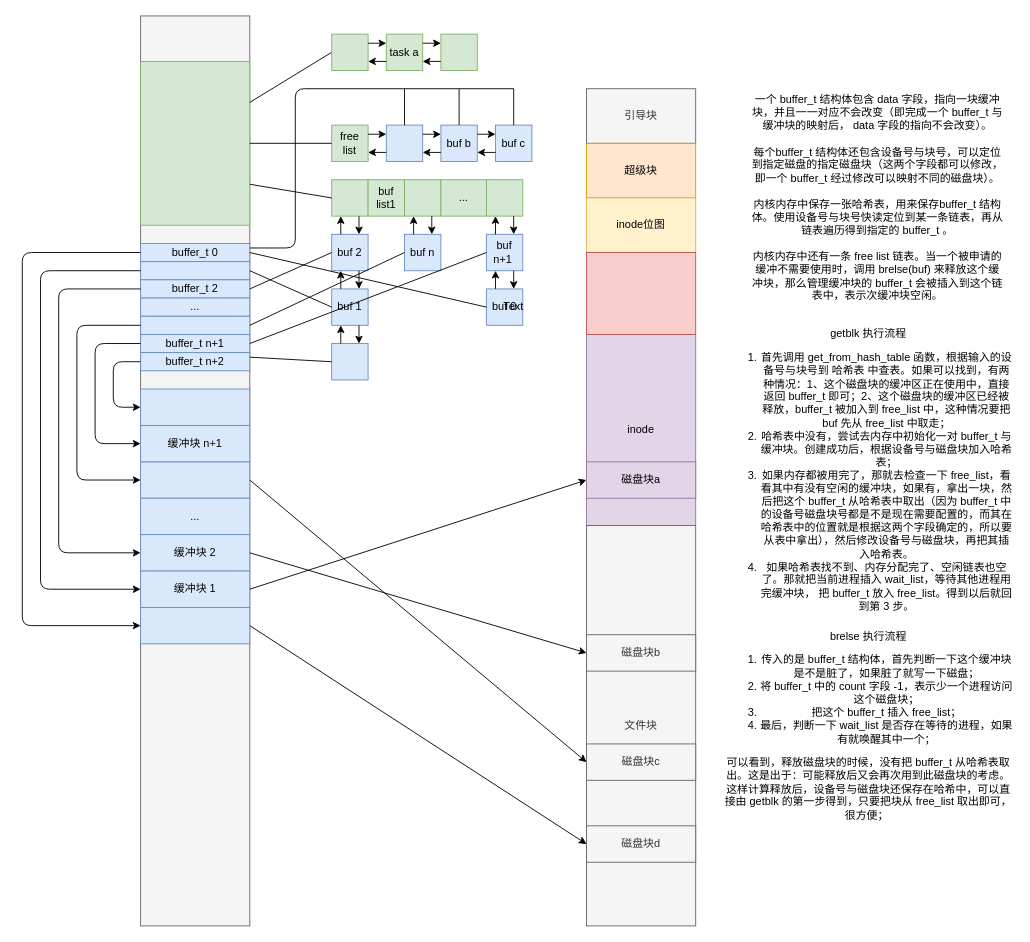
Image size: 1030x942. Some labels were removed from this diagram. The shapes that lost their labels are listed below. From the top down, each one's centre as x and y in pixels, then its label:
the point at 349,52: wait list
the point at 458,52: task b
the point at 195,143: 内核数据区
the point at 404,143: buf a
the point at 349,197: buf list0
the point at 422,197: buf list2
the point at 504,197: buf list30
the point at 195,270: buffer_t 1
the point at 641,293: 文件块位图
the point at 195,324: buffer_t n
the point at 349,361: buf n+2
the point at 195,406: 缓冲块 n+2
the point at 195,479: 缓冲块 n
the point at 195,625: 缓冲块 0
